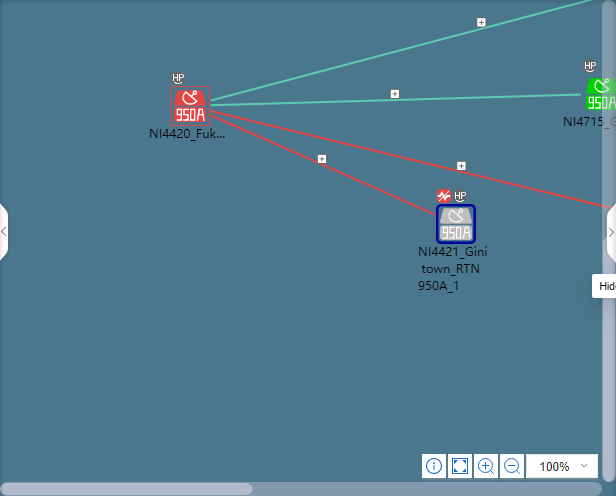Link_Blue: (210, 0, 593, 102), (211, 92, 582, 107)
Link_Red: (213, 110, 609, 210), (212, 114, 433, 216)
RTN_Gray: (439, 208, 472, 240)
RTN_Green: (586, 78, 615, 109)
RTN_Red: (173, 89, 206, 122)
